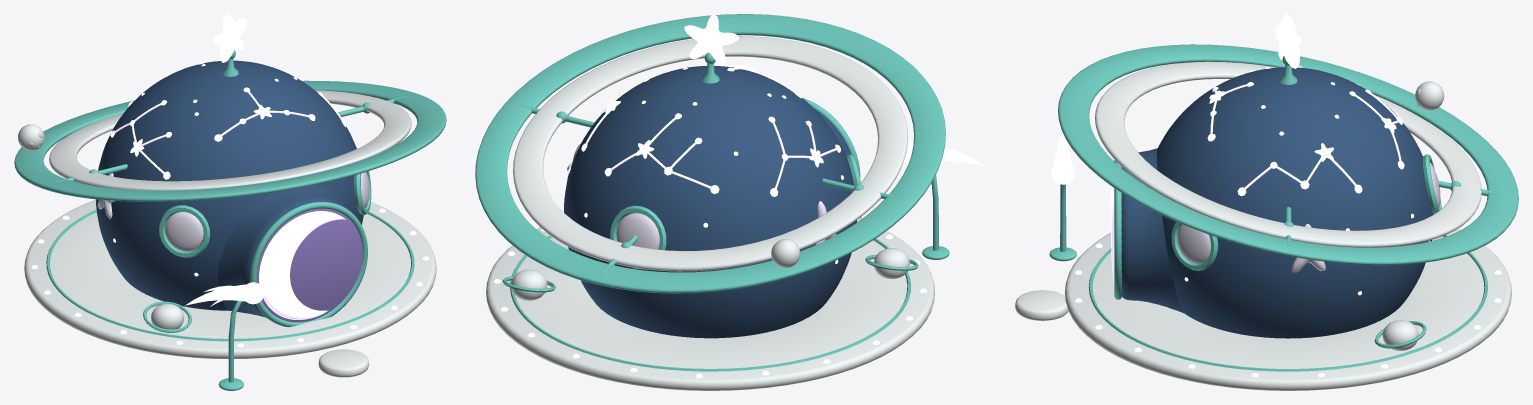
The model's file is house_07_0710.fbx.
3 renders of one model, left to right at view 1: azimuth 30°, elevation 25°; view 2: azimuth 150°, elevation 25°; view 3: azimuth 270°, elevation 25°, orthographic. The views are drawn at different scales.
Parts seen in each view (by area): view 1: House07_PlanetDome, House07_RingDeck_Engawa, House07_PlanetRing_Outer, House07_PlanetRing_Inner, House07_MoonDisc, House07_EntrancePod, House07_CrescentDoor, House07_MoonDiscRim, House07_DeckGoldInlay, House07_RoundWindows, House07_WindowRims, House07_MoonStep (+10 smaller); view 2: House07_PlanetDome, House07_RingDeck_Engawa, House07_PlanetRing_Outer, House07_PlanetRing_Inner, House07_DeckGoldInlay, House07_PlanetStools, House07_TopStar, House07_ConstellationLines, House07_RoundWindows, House07_WindowRims, House07_RingSupports, House07_ConstellationDots (+6 smaller); view 3: House07_PlanetDome, House07_RingDeck_Engawa, House07_PlanetRing_Outer, House07_PlanetRing_Inner, House07_EntrancePod, House07_DeckGoldInlay, House07_MoonStep, House07_RoundWindows, House07_WindowRims, House07_TopStar, House07_MoonDiscRim, House07_ConstellationLines (+6 smaller).
Boxes of the visible parts, x1,y1,x2,y2 form: House07_PlanetDome: (96,60,363,310); House07_RingDeck_Engawa: (24,199,436,358); House07_PlanetRing_Outer: (14,80,446,201); House07_PlanetRing_Inner: (49,90,411,190); House07_MoonDisc: (257,208,362,322); House07_EntrancePod: (217,185,347,318); House07_CrescentDoor: (259,211,345,319); House07_MoonDiscRim: (250,202,367,327); House07_DeckGoldInlay: (46,209,414,341); House07_RoundWindows: (165,172,369,251); House07_WindowRims: (159,171,371,257); House07_MoonStep: (318,349,368,377); House07_PlanetDome: (564,66,856,338); House07_RingDeck_Engawa: (486,218,934,390); House07_PlanetRing_Outer: (475,14,945,293); House07_PlanetRing_Inner: (513,36,908,271); House07_DeckGoldInlay: (510,235,910,371); House07_PlanetStools: (511,248,909,300); House07_TopStar: (684,14,738,64); House07_ConstellationLines: (585,66,837,188); House07_RoundWindows: (616,175,860,249); House07_WindowRims: (610,154,860,269); House07_RingSupports: (518,104,902,272); House07_ConstellationDots: (568,65,843,263); House07_PlanetDome: (1157,67,1433,338); House07_RingDeck_Engawa: (1065,228,1511,390); House07_PlanetRing_Outer: (1058,44,1518,265); House07_PlanetRing_Inner: (1095,61,1481,247); House07_EntrancePod: (1121,148,1184,313); House07_DeckGoldInlay: (1088,235,1487,371); House07_MoonStep: (1015,290,1068,320); House07_RoundWindows: (1177,162,1440,263); House07_WindowRims: (1171,154,1441,270); House07_TopStar: (1274,14,1301,68); House07_MoonDiscRim: (1114,160,1121,299); House07_ConstellationLines: (1210,84,1401,189).
Bounding box in the file's own units: 5.48 × 3.79 × 5.86.
